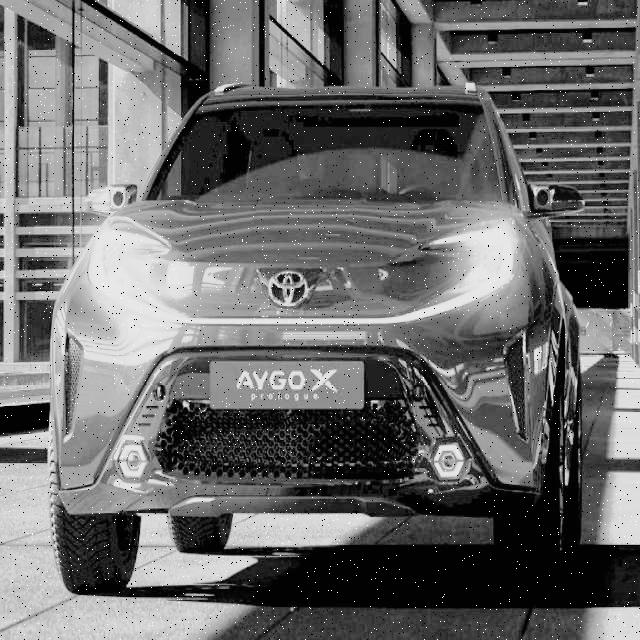Car: (52, 67, 583, 593)
